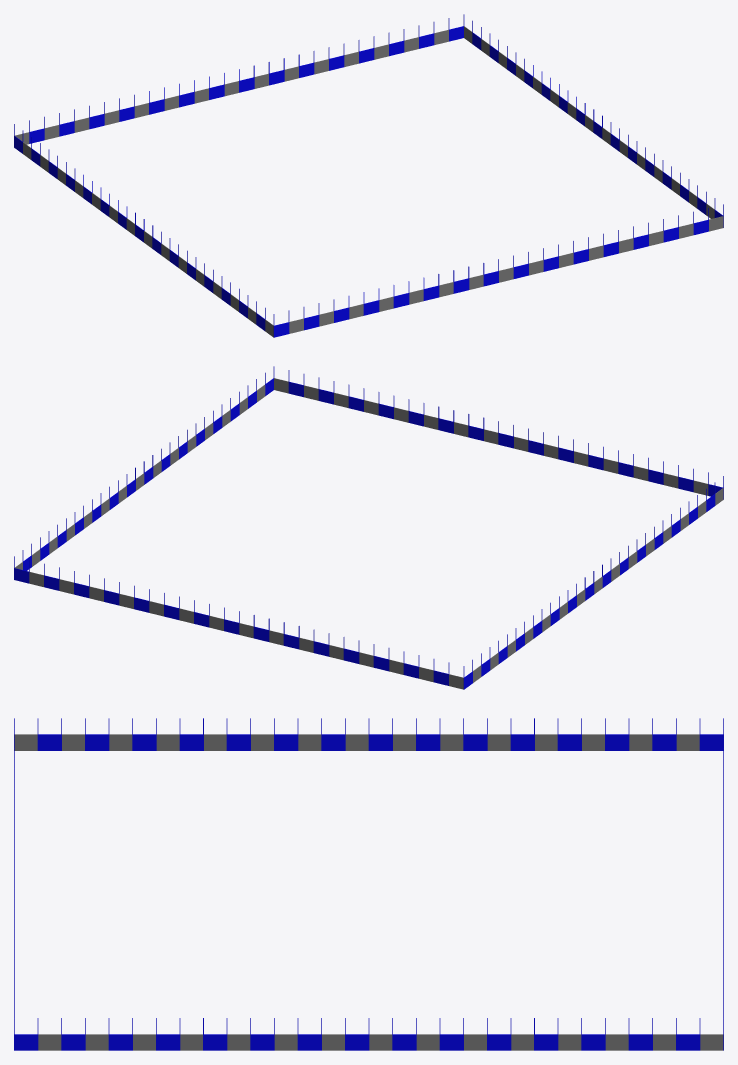
The model's file is Fence30m.gltf.
The picture shows the model from 3 angles, top to bottom: view 1: azimuth 30°, elevation 25°; view 2: azimuth 150°, elevation 25°; view 3: azimuth 270°, elevation 25°; orthographic projection. The views are drawn at different scales.
Size of the model in its own units: 30.03 by 1.5 by 30.03.
